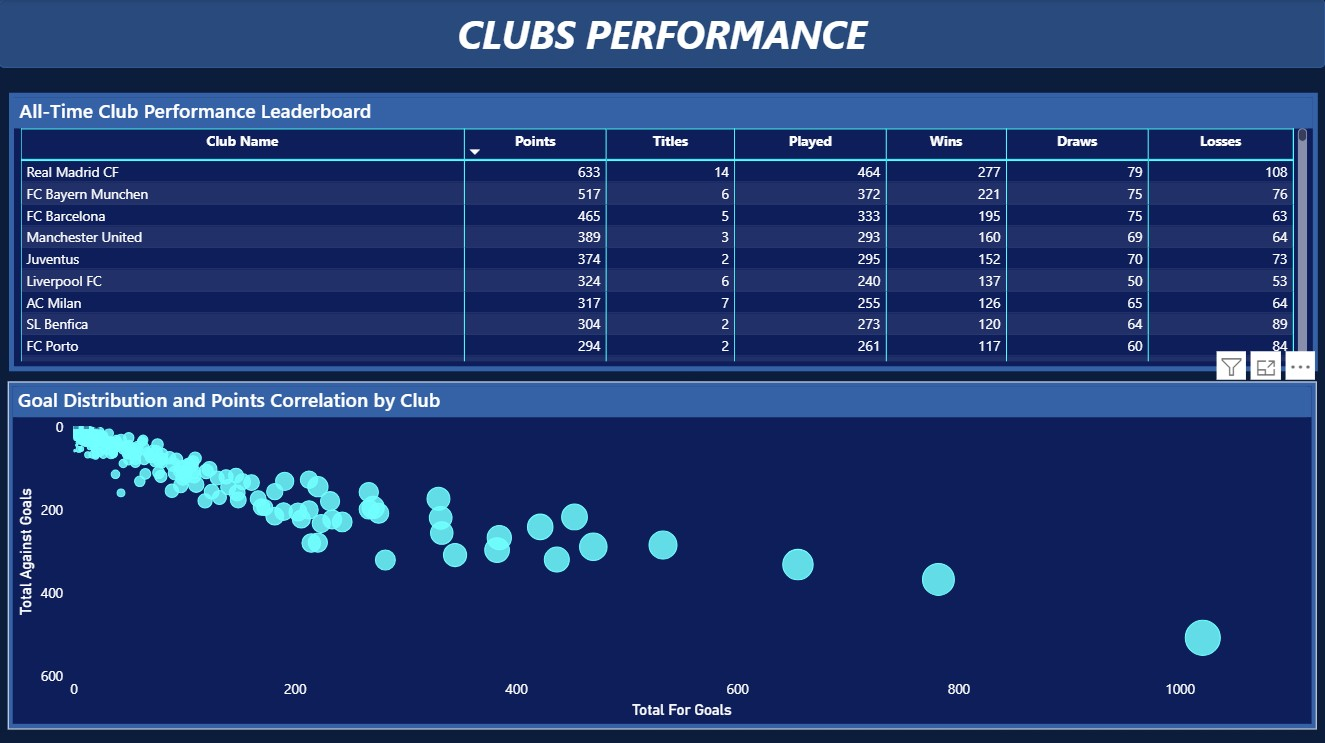

Layout of this report page (visuals, bound fields, positions):
{"tool":"powerbi","page":{"name":"Page 2","canvas":[1280,720],"ordinal":1},"visuals":[{"type":"tableEx","title":"All-Time Club Performance Leaderboard","fields":{"Values":["ucl dim_club.club_name","Sum(ucl fact_club_all_time_performance.points)","Sum(ucl fact_club_all_time_performance.titles)","Sum(ucl fact_club_all_time_performance.played)","Sum(ucl fact_club_all_time_performance.wins)","Sum(ucl fact_club_all_time_performance.draws)","Sum(ucl fact_club_all_time_performance.losses)"]},"box":[9.7,90.5,1263.1,269],"z":0},{"type":"textbox","box":[0,0,1280,66.4],"z":1000},{"type":"scatterChart","title":"Goal Distribution and Points Correlation by Club","fields":{"X":["Sum(ucl fact_club_all_time_performance.goals_for)"],"Y":["Sum(ucl fact_club_all_time_performance.goals_against)"],"Category":["ucl dim_club.club_name"],"Size":["ucl fact_club_all_time_performance.Total Points"]},"box":[8.4,369.2,1263.1,335.4],"z":2000}]}

Visuals, with their boxes in screenshot pixels (x1, y1, x2, y2), scaled from the page's 1280x720 canvas onto the 1325x743 screenshot:
"All-Time Club Performance Leaderboard" tableEx: bbox=[10, 93, 1318, 371]
textbox: bbox=[0, 0, 1324, 69]
"Goal Distribution and Points Correlation by Club" scatterChart: bbox=[9, 381, 1316, 727]
